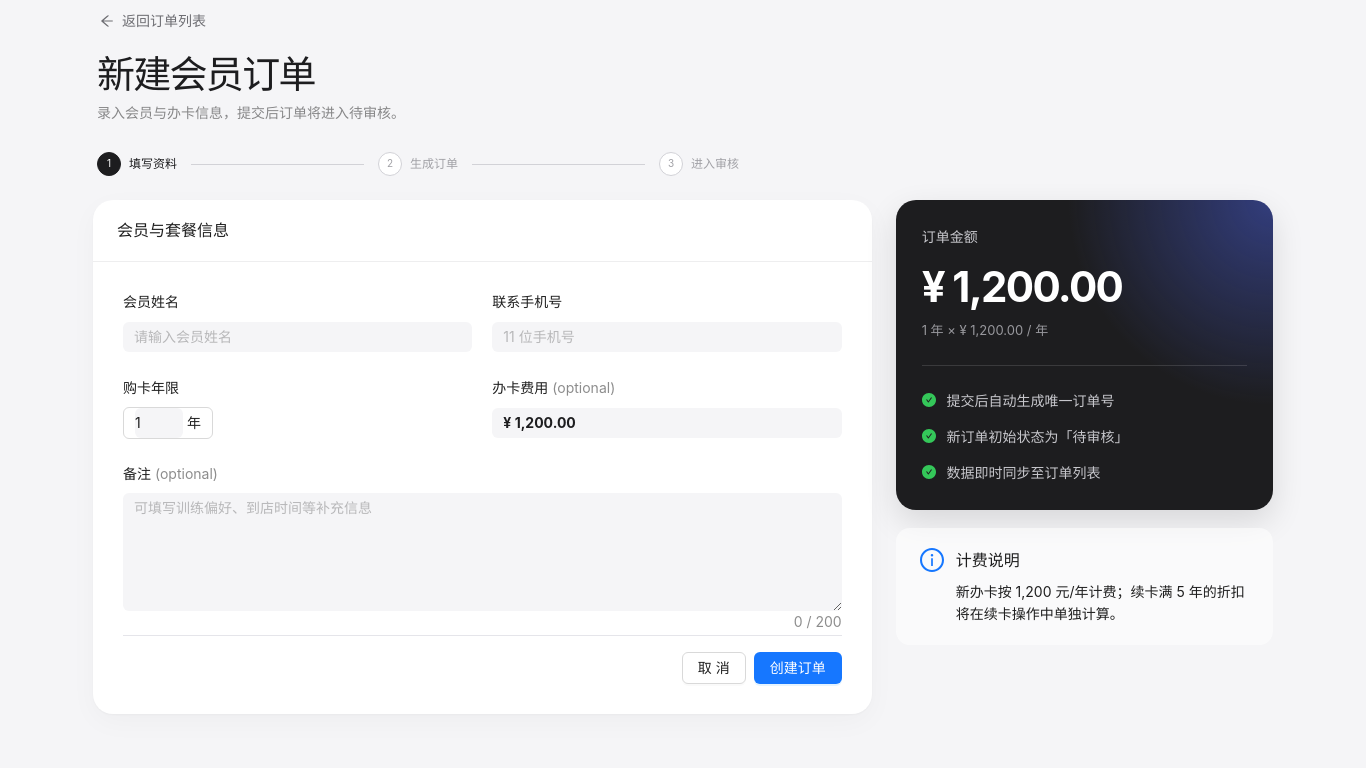
Test: NewOrderPage › shows validation feedback for invalid member data
The width and height of the screenshot is (1366, 768).
Type "测" into the field with placeholder "请输入会员姓名" at (298, 337), box [123,322,472,352]
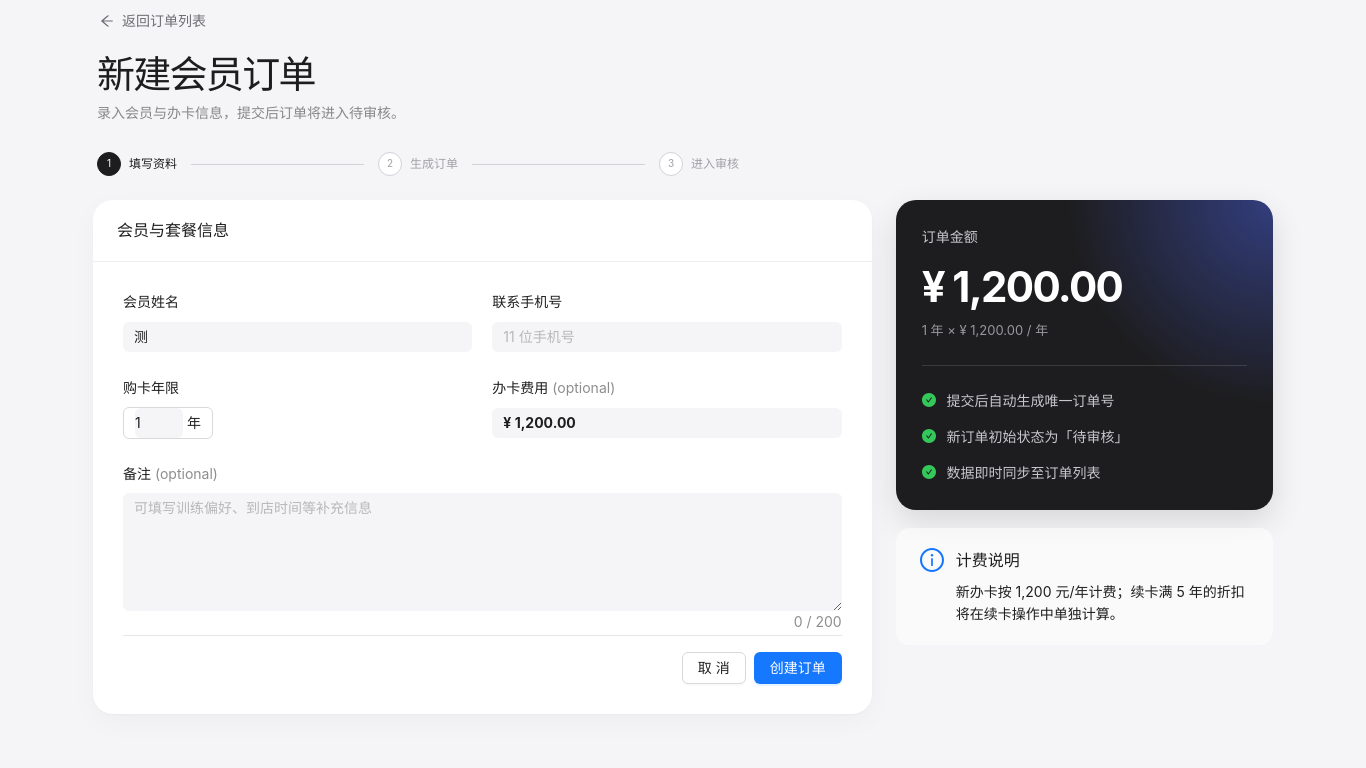
Type "123" into the field with placeholder "11 位手机号" at (667, 337), box [492,322,842,352]
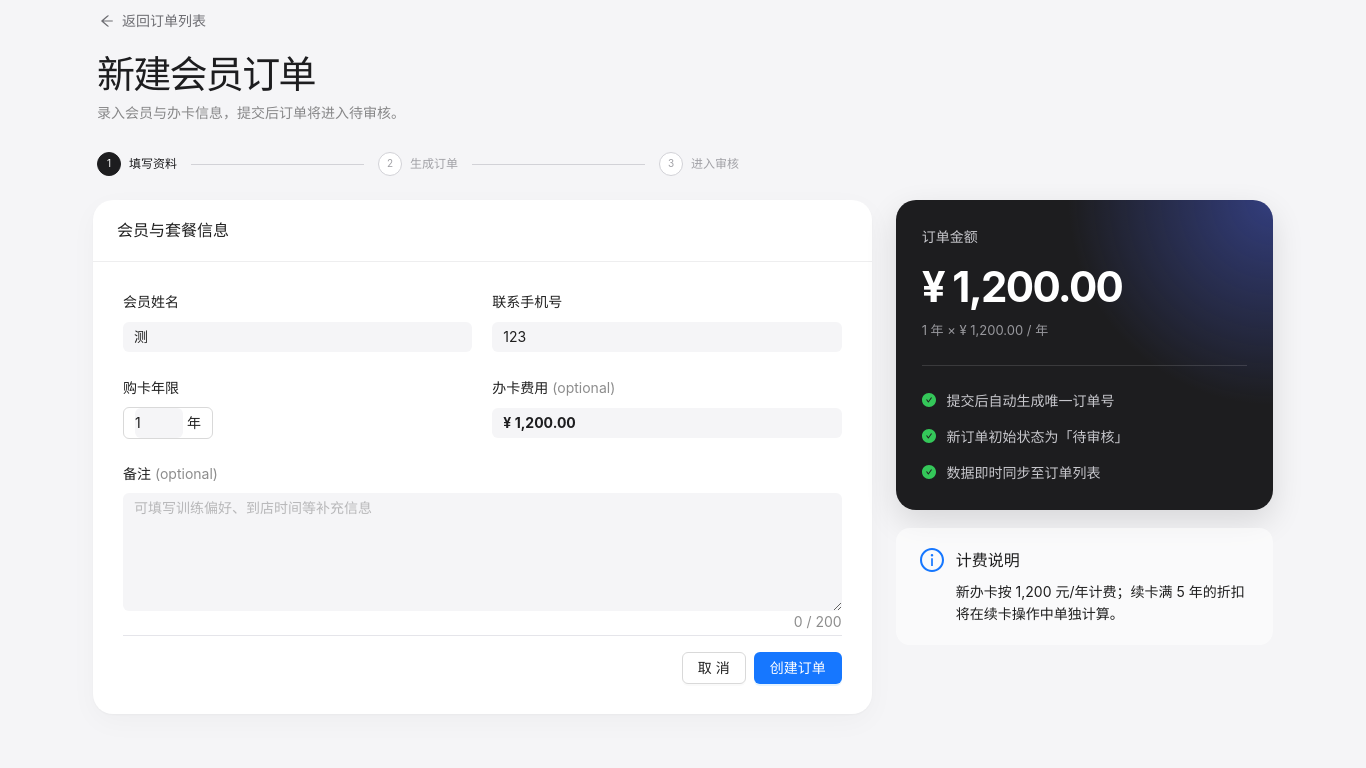
Click the button "创建订单" at (798, 668), box [754,652,842,684]
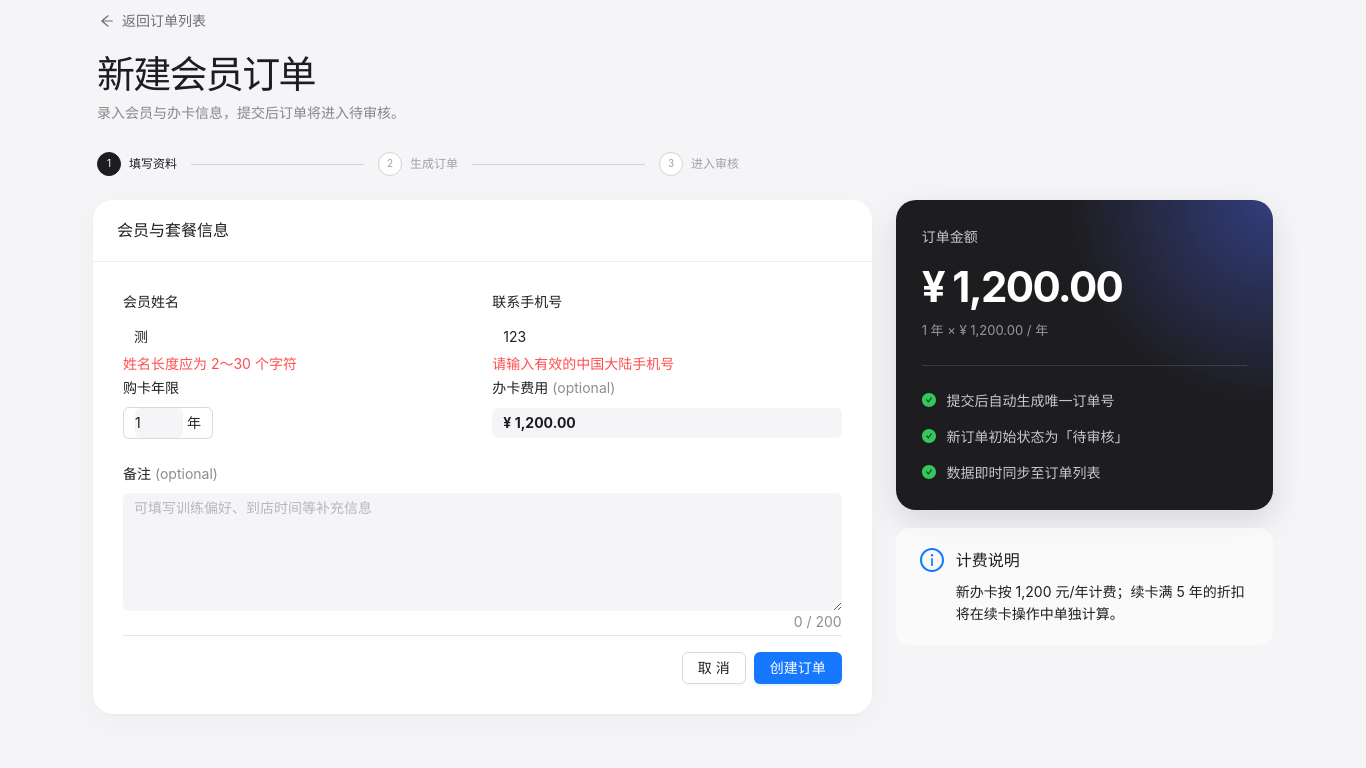
Now the text "姓名长度应为 2～30 个字符" is shown, box [123,355,297,372]
Now the text "请输入有效的中国大陆手机号" is shown, box [492,355,674,372]
